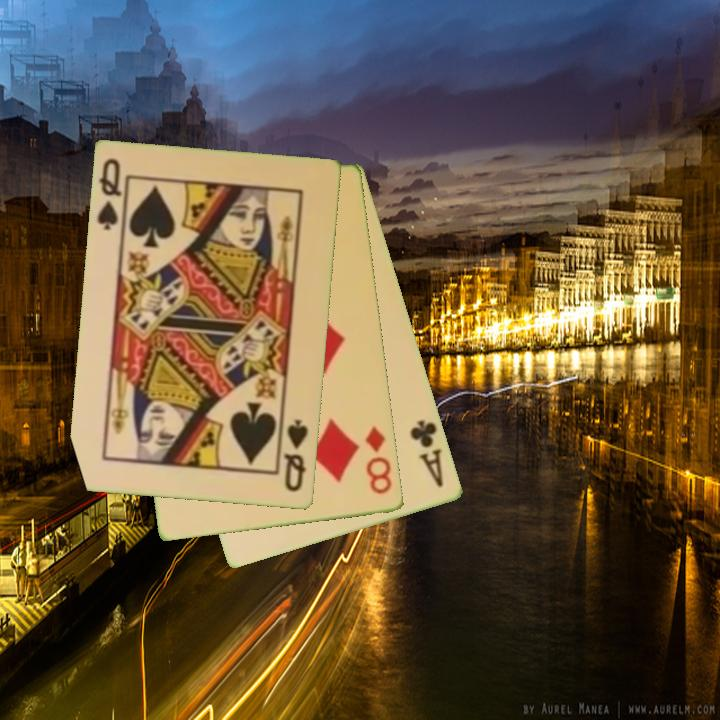8d: (362, 423, 395, 498)
Ac: (407, 416, 447, 491)
Qs: (94, 155, 131, 236), (280, 416, 312, 495)
